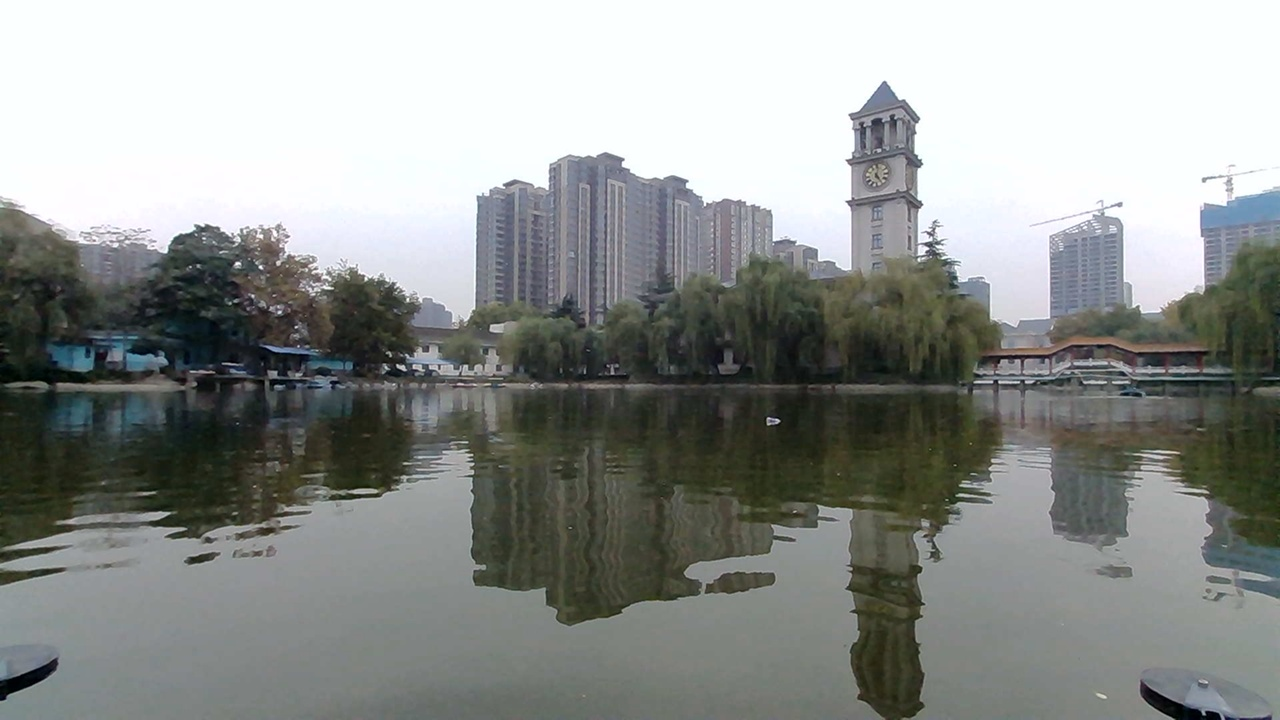bottle: (746, 404, 785, 434)
